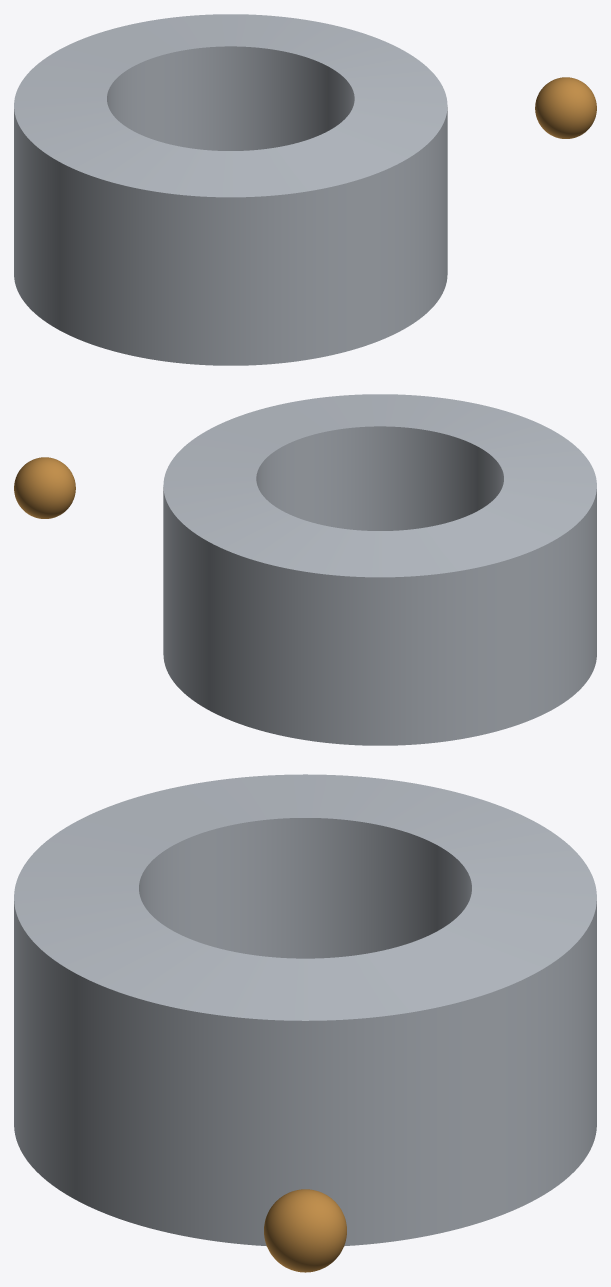
Rendered from large-blender.glb.
3 renders of one model, top to bottom at view 1: azimuth 30°, elevation 25°; view 2: azimuth 150°, elevation 25°; view 3: azimuth 270°, elevation 25°, orthographic. The views are drawn at different scales.
Visible parts, largest first — view 1: bushing, preserved; view 2: bushing, preserved; view 3: bushing, preserved.
Part boxes in pixels (x1=…): bushing: x1=14, y1=14, x2=447, y2=365; preserved: x1=535, y1=77, x2=596, y2=138; bushing: x1=163, y1=394, x2=596, y2=745; preserved: x1=14, y1=457, x2=75, y2=518; bushing: x1=14, y1=774, x2=596, y2=1246; preserved: x1=264, y1=1189, x2=346, y2=1272.
Size of the model in its own units: 0.082 by 0.025 by 0.056.
